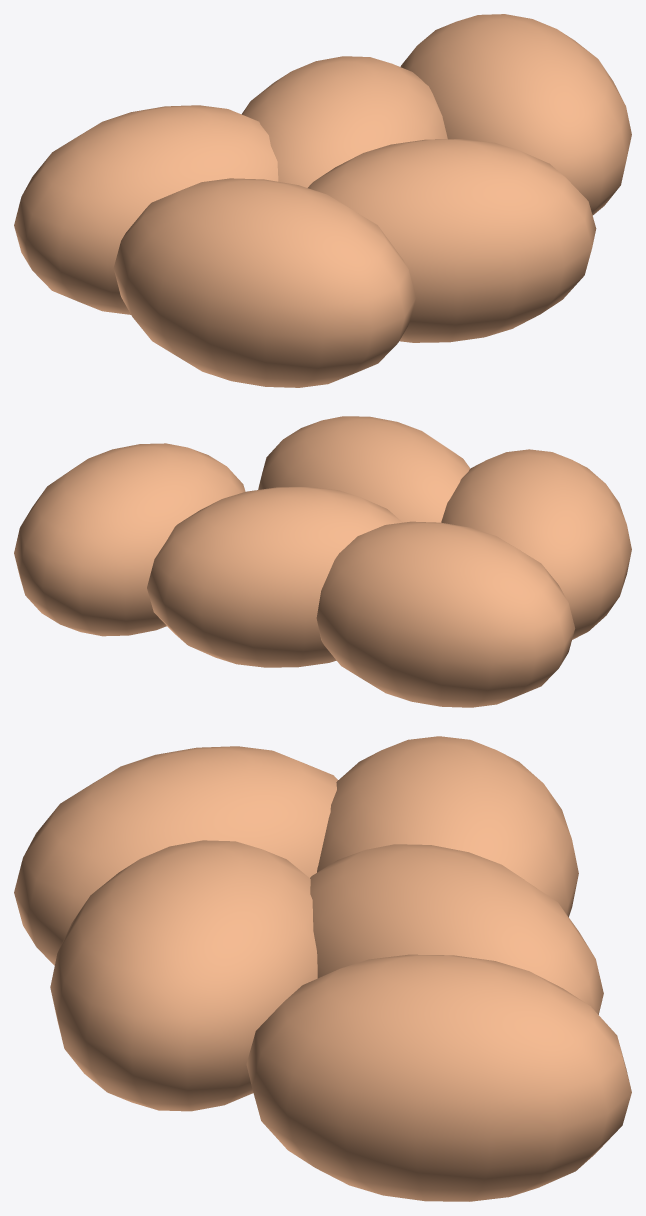
The model's file is chicken-cut.glb.
3 views of the same model, one above another, from view 1: azimuth 30°, elevation 25°; view 2: azimuth 150°, elevation 25°; view 3: azimuth 270°, elevation 25° (orthographic). The views are drawn at different scales.
Visible parts, largest first — view 1: chicken-cut; view 2: chicken-cut; view 3: chicken-cut.
Part boxes in pixels (bbox=[...]): chicken-cut: bbox=[14, 14, 631, 387]; chicken-cut: bbox=[14, 416, 631, 707]; chicken-cut: bbox=[14, 736, 631, 1201].
Bounding box in the file's own units: 0.4401 × 0.13 × 0.3317.
